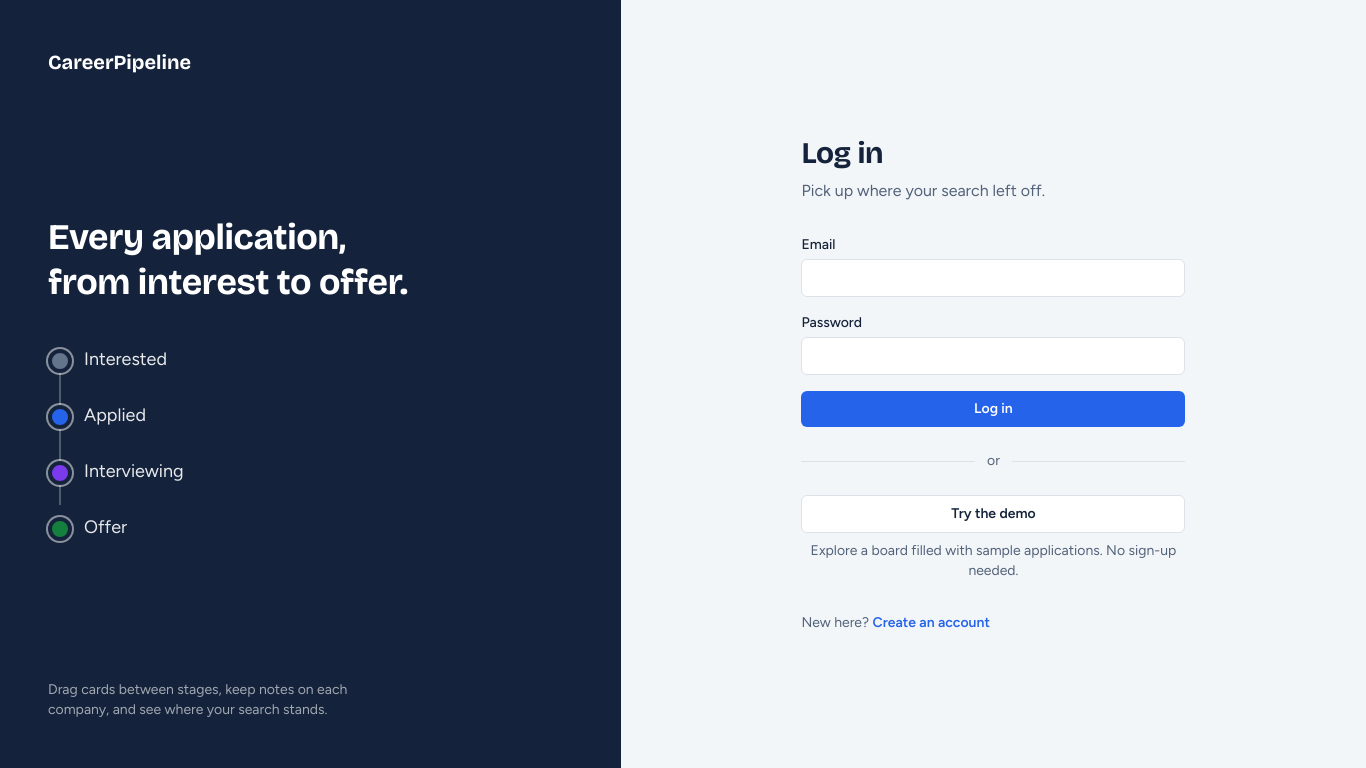
Scenario: the demo button signs in and shows the board
What coordinates should you click on to do the following:
click the button "Try the demo"
I would click on:
 (993, 514)
Its box is x1=801 y1=495 x2=1185 y2=533.
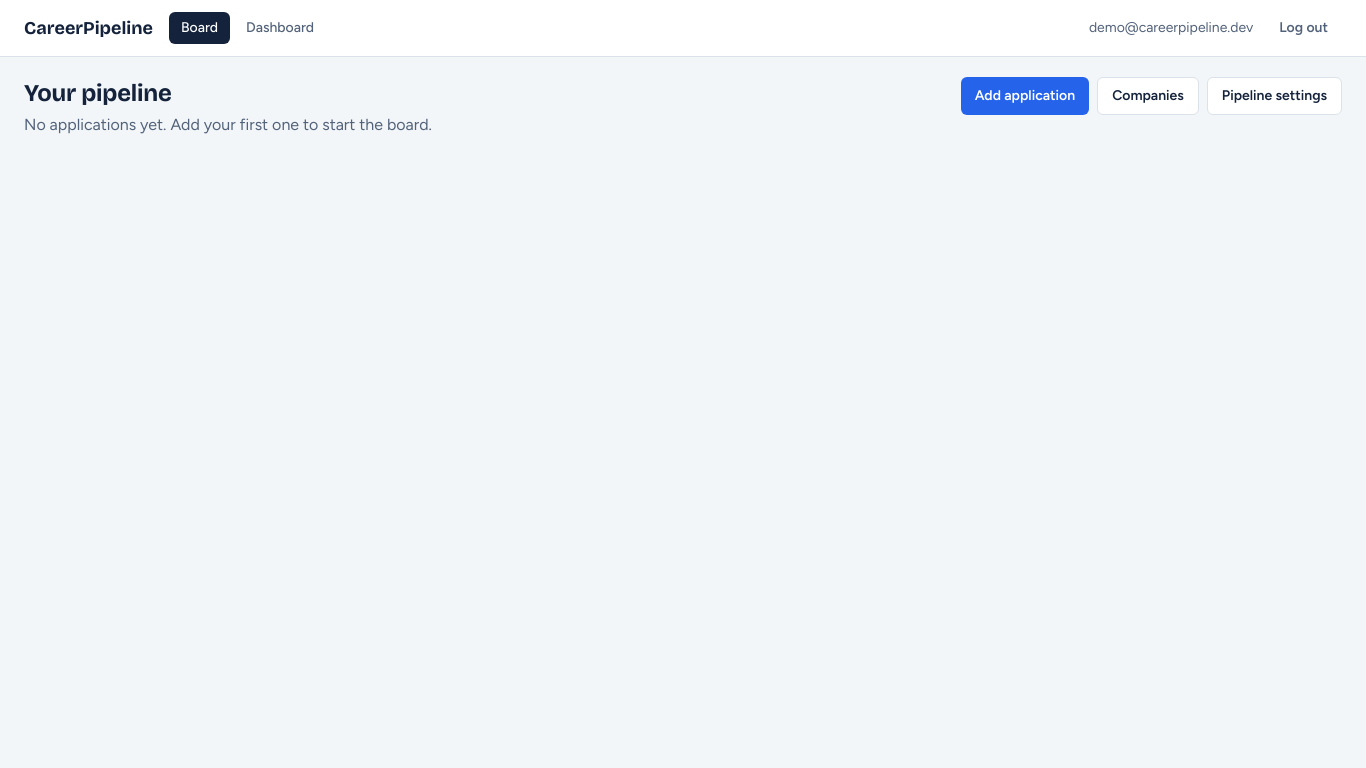
Expected: the heading "Your pipeline" is shown, x1=24 y1=79 x2=172 y2=107
Expected: the text "demo@careerpipeline.dev" is shown, x1=1089 y1=18 x2=1253 y2=38
